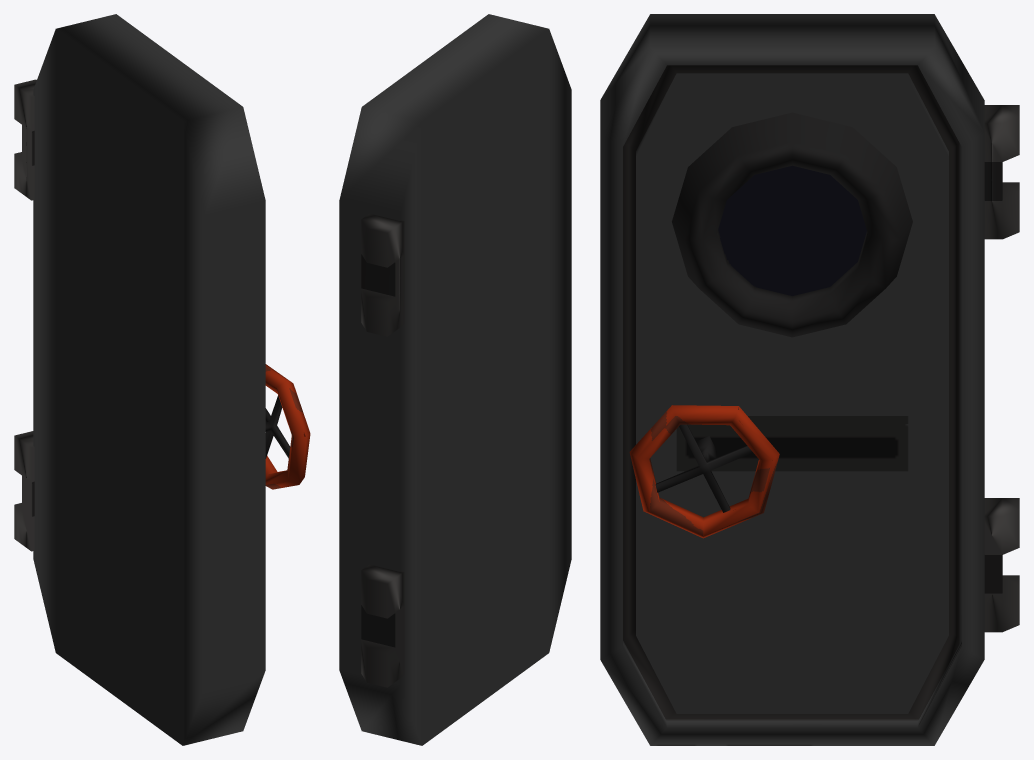
The model's file is metalDoor.obj.
3 renders of one model, left to right at view 1: azimuth 30°, elevation 25°; view 2: azimuth 150°, elevation 25°; view 3: azimuth 270°, elevation 25°, orthographic. The views are drawn at different scales.
Visible parts, largest first — view 1: Cube, Torus, Cube.002, Cube.003, Cube.001; view 2: Cube, Cube.002, Cube.003; view 3: Cube, Cylinder, Torus, Cube.002, Cube.003, Cube.001.
Part boxes in pixels (<box>): Cube: <box>33,14,265,745</box>; Torus: <box>265,364,310,489</box>; Cube.002: <box>14,79,36,200</box>; Cube.003: <box>14,431,34,551</box>; Cube.001: <box>265,395,290,458</box>; Cube: <box>339,14,571,745</box>; Cube.002: <box>361,213,404,336</box>; Cube.003: <box>361,564,404,687</box>; Cube: <box>600,14,984,745</box>; Cylinder: <box>672,112,912,337</box>; Torus: <box>629,405,779,538</box>; Cube.002: <box>984,105,1019,239</box>; Cube.003: <box>984,498,1019,632</box>; Cube.001: <box>655,424,752,512</box>.
Size of the model in its own units: 1.03 by 4.91 by 2.67.
6 materials, 6 textured.
